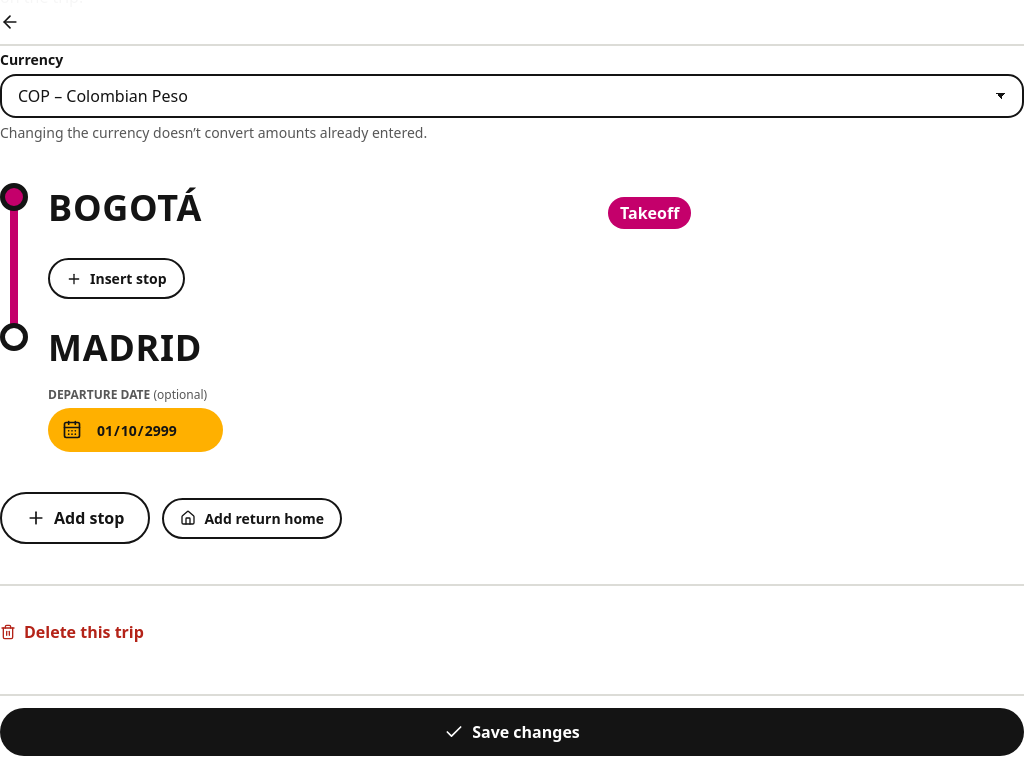
Scenario: TripForm in edit mode › shows an error toast and stays on the form when the delete fails
(page scrolled)
Click the heading "Delete this trip".
click(72, 632)  # box [0,621,144,643]
(page scrolled)
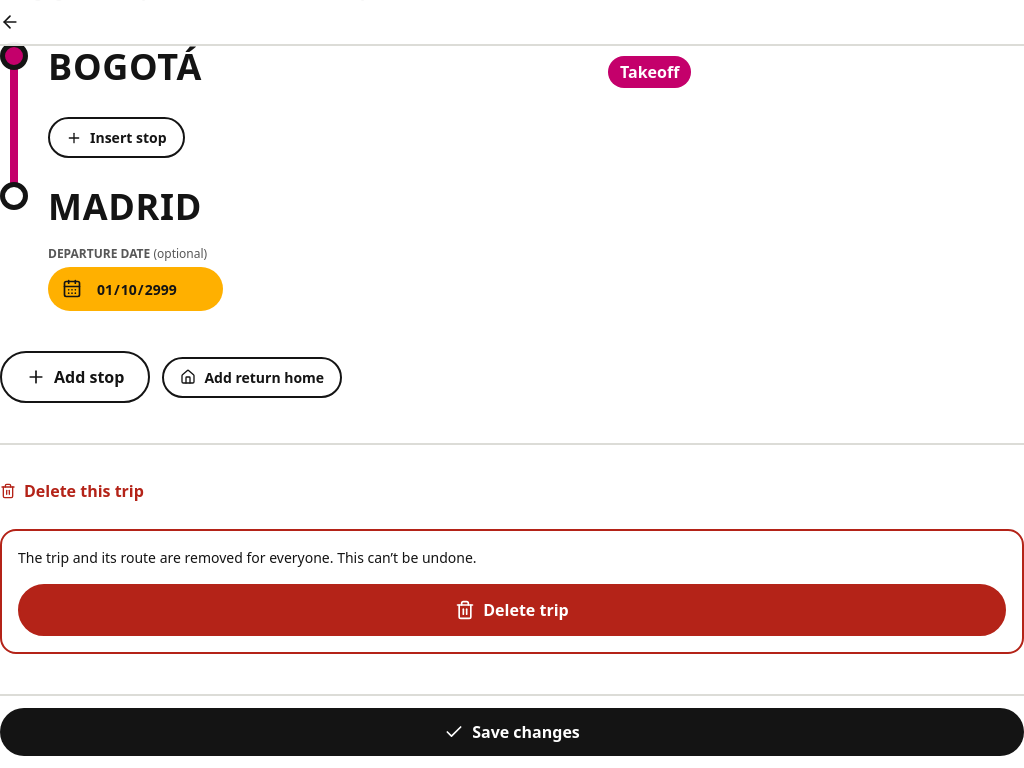
Click the button "Delete trip".
click(512, 610)  # box [18,584,1006,636]
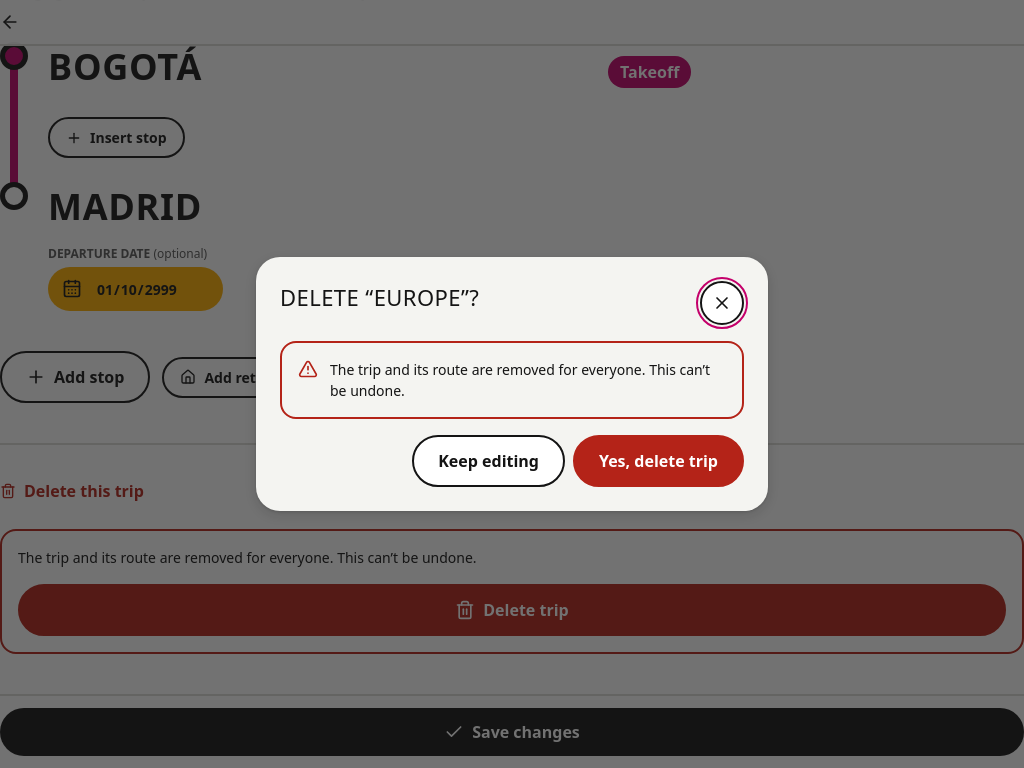
Click the button "Yes, delete trip".
click(658, 461)  # box [573,435,744,487]
(page scrolled)
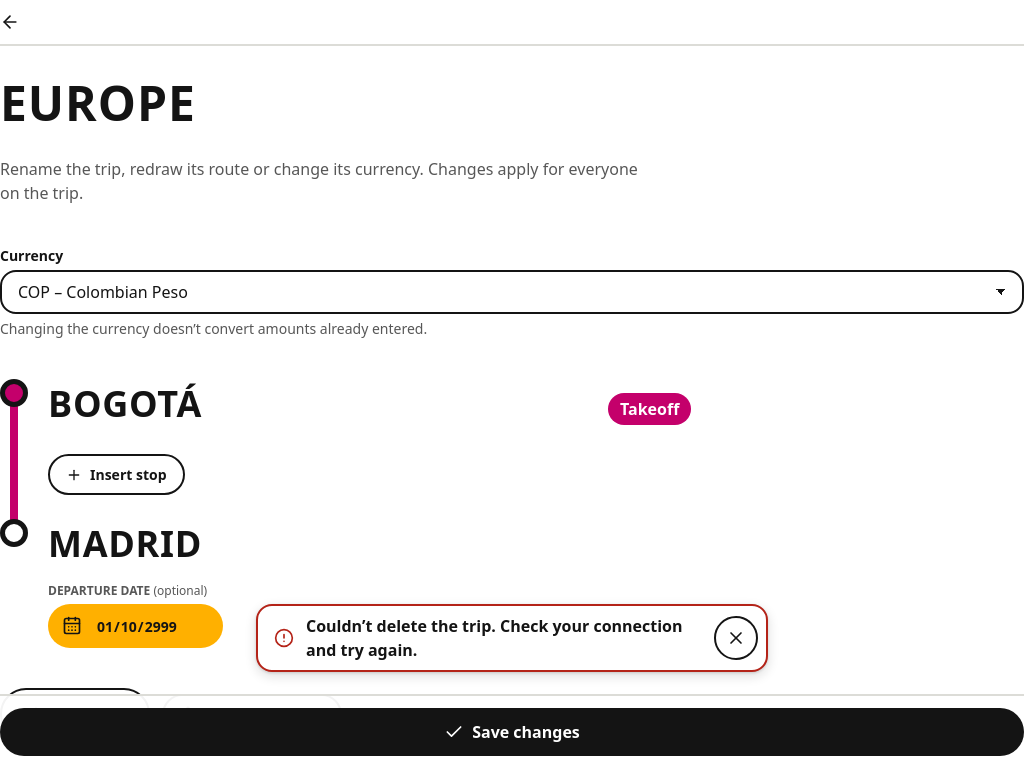
Expected: the field named "Trip name" holds "Europe", [0,70,1023,141]
Result: the message shows "Couldn’t delete the trip" at [306,615,682,661]
Result: the dialog is gone
